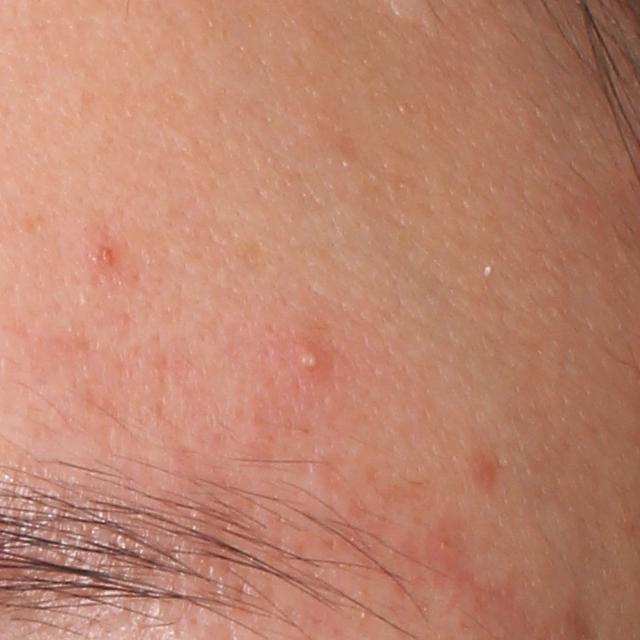papule: (96, 245, 118, 268)
pustule: (283, 337, 330, 379)
